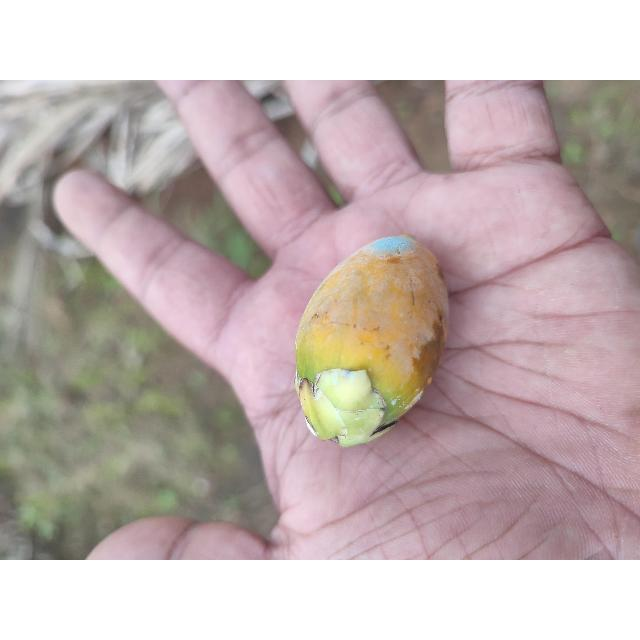good: (293, 236, 450, 449)
